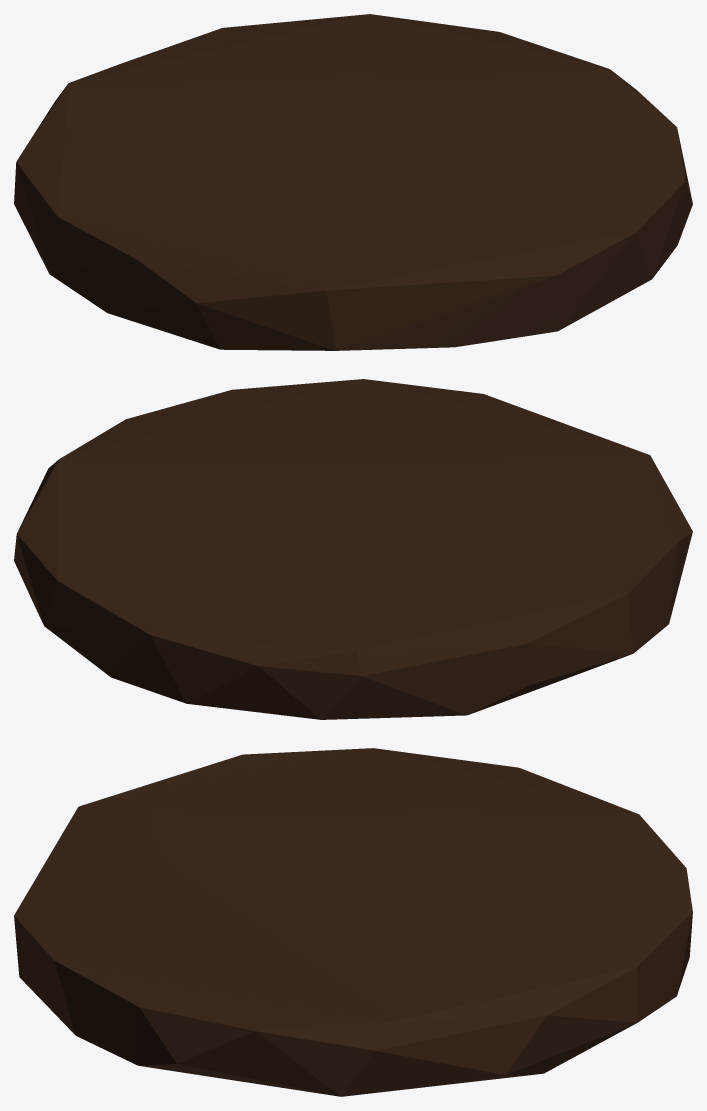
The model's file is pattyBadDone.fbx.
3 views of the same model, one above another, from view 1: azimuth 30°, elevation 25°; view 2: azimuth 150°, elevation 25°; view 3: azimuth 270°, elevation 25° (orthographic).
Visible parts, largest first — view 1: Burger.002; view 2: Burger.002; view 3: Burger.002.
Part boxes in pixels (<box>): Burger.002: <box>14,14,692,350</box>; Burger.002: <box>14,379,692,719</box>; Burger.002: <box>14,748,692,1096</box>.
Bounding box in the file's own units: 445 × 53.9 × 439.
